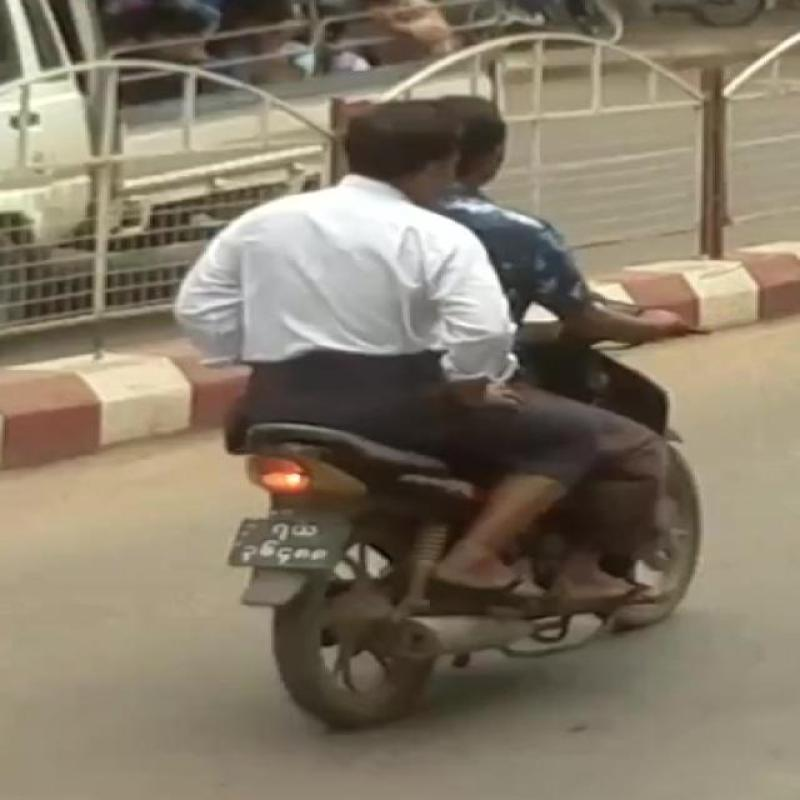nohelmet: (332, 92, 540, 212)
